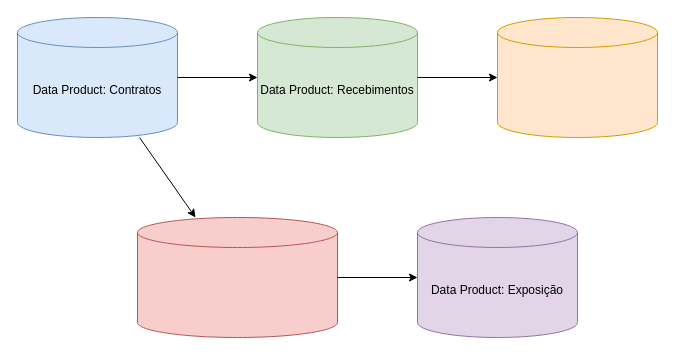
Some shapes in this 675 by 355 pixel diagram are drawn without their labels. Here are the shapes that lost their labels. From the top down, the centre of each, then its label:
the point at 577,77: Data Product: Razonete Contábil
the point at 237,277: Data Product: Risco (Scoring/Write-off)
